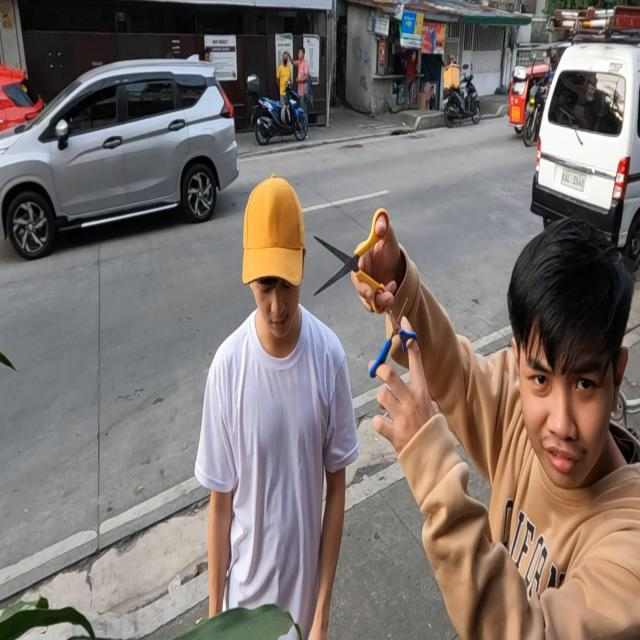scissor: (313, 208, 390, 314), (369, 298, 417, 379)
